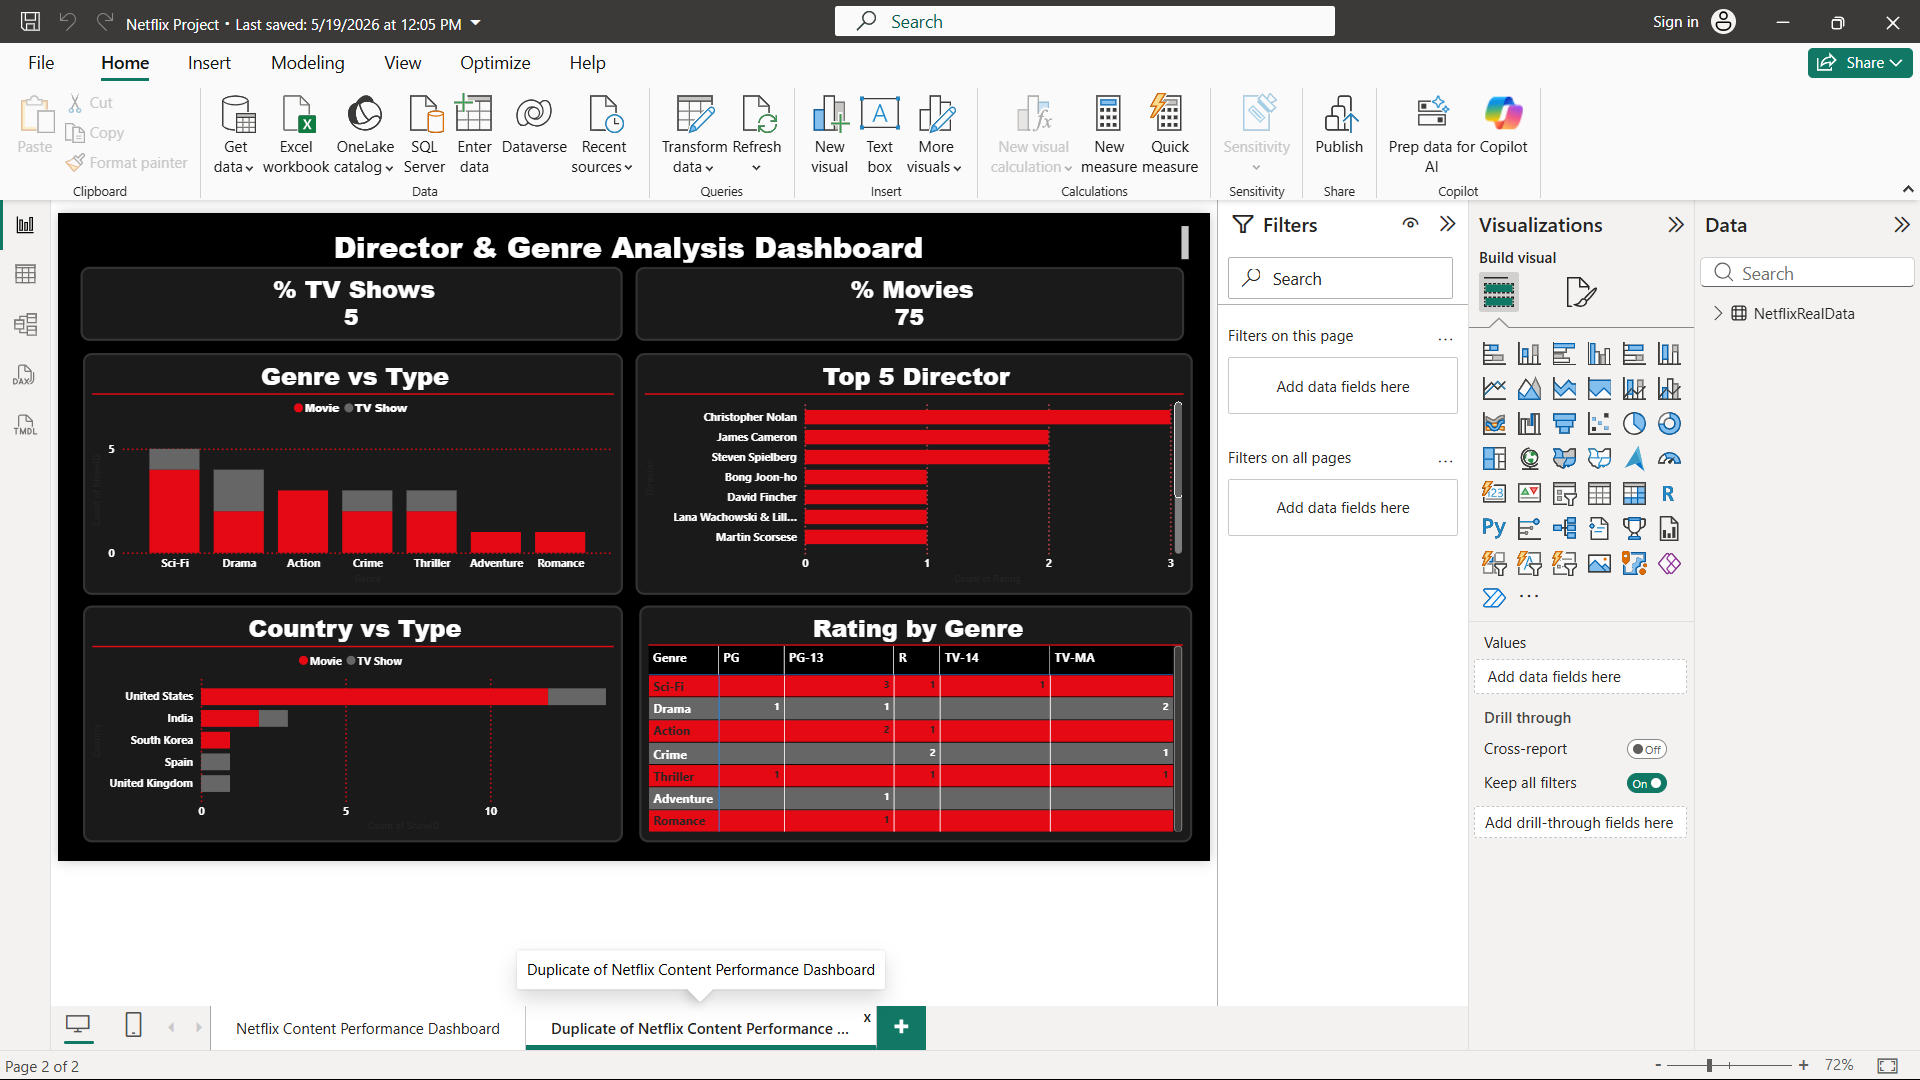

The dashboard page shown, as its layout file describes it:
{"tool":"powerbi","page":{"name":"Duplicate of Netflix Content Performance Dashboard","canvas":[1280,720],"ordinal":1},"visuals":[{"type":"card","title":"% Movies","fields":{"Values":["NetflixRealData.% Movies"]},"box":[642.2,60.4,609.3,82.3],"z":0},{"type":"textbox","title":"Netflix ","box":[13.7,9.6,1247.3,50.8],"z":1000},{"type":"card","title":"% TV Shows","fields":{"Values":["NetflixRealData.Total TV Shows"]},"box":[24.7,60.4,602.4,82.3],"z":2000},{"type":"columnChart","title":" Genre vs Type","fields":{"Category":["NetflixRealData.Genre"],"Series":["NetflixRealData.Type"],"Y":["CountNonNull(NetflixRealData.ShowID)"]},"box":[27.4,155.1,599.7,269],"z":3000},{"type":"barChart","title":"Country vs Type","fields":{"Series":["NetflixRealData.Type"],"Category":["NetflixRealData.Country"],"Y":["CountNonNull(NetflixRealData.ShowID)"]},"box":[27.4,436.4,599.7,263.5],"z":4000},{"type":"barChart","title":"Top 5 Director","fields":{"Category":["NetflixRealData.Director"],"Y":["CountNonNull(NetflixRealData.Rating)"]},"box":[642.2,155.1,618.9,269],"z":5000},{"type":"pivotTable","title":"Rating by Genre","fields":{"Values":["CountNonNull(NetflixRealData.ShowID)"],"Rows":["NetflixRealData.Genre"],"Columns":["NetflixRealData.Rating"]},"box":[646.3,436.4,614.8,263.5],"z":6000}]}

Visuals, with their boxes on the page's 1280x720 design canvas (x1, y1, x2, y2). These are canvas units, not pixel positions in the 1920x1080 screenshot, which may show the page scaled, cropped or inside an application window:
"% Movies" card: region(642, 60, 1252, 143)
"Netflix " textbox: region(14, 10, 1261, 60)
"% TV Shows" card: region(25, 60, 627, 143)
" Genre vs Type" columnChart: region(27, 155, 627, 424)
"Country vs Type" barChart: region(27, 436, 627, 700)
"Top 5 Director" barChart: region(642, 155, 1261, 424)
"Rating by Genre" pivotTable: region(646, 436, 1261, 700)
